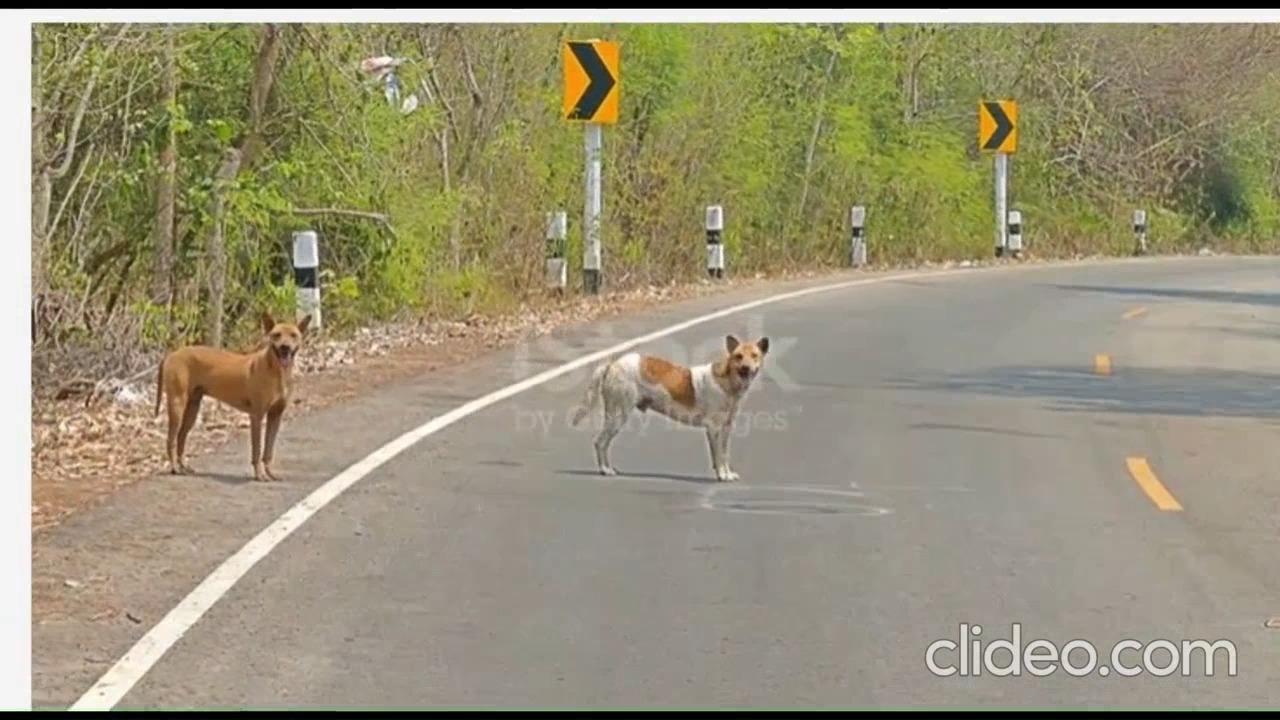dog: (563, 330, 767, 476), (152, 306, 316, 472)
